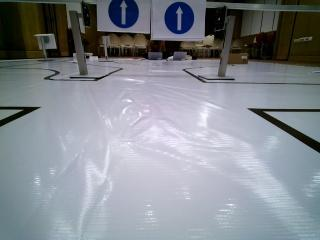straight: (151, 1, 203, 39), (99, 0, 149, 32)
